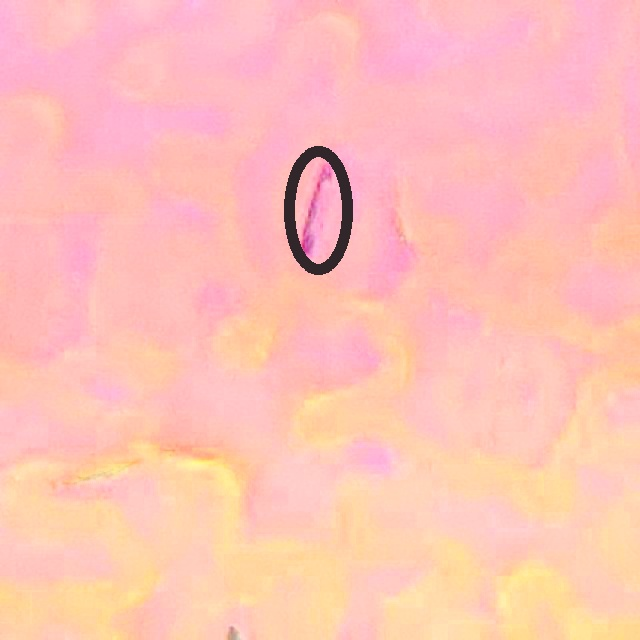open: (283, 147, 353, 273)
